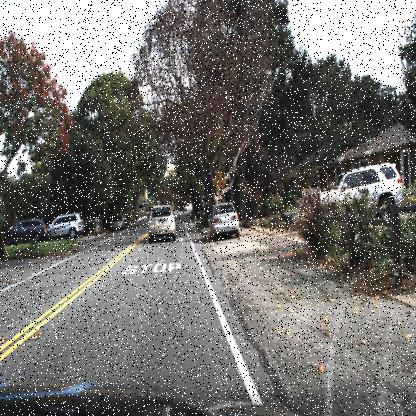car: (318, 164, 402, 207), (208, 201, 240, 241), (147, 204, 176, 244), (4, 219, 48, 242), (48, 211, 84, 236), (184, 198, 196, 216)
